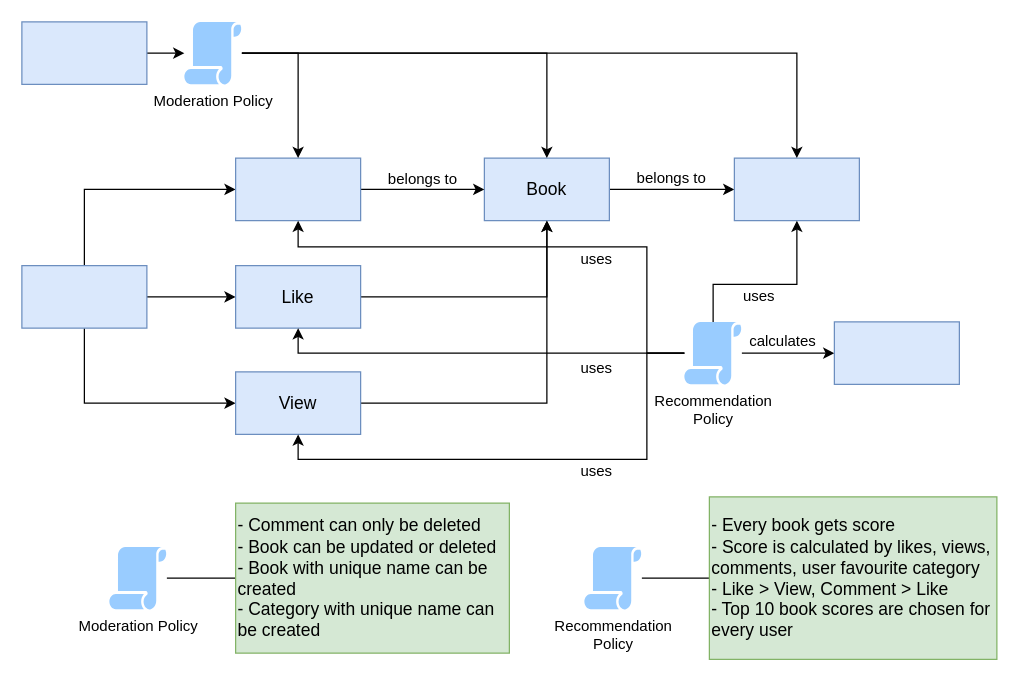
This 1019x681 diagram has some shape labels left out. The shapes that lost their labels are listed below. From the top down, each one's box as (x1, y1, x2, y2) in pixels, then its label:
(21, 21, 147, 84): Moderator
(234, 157, 361, 221): Comment
(733, 157, 859, 221): Category
(21, 264, 147, 328): User
(833, 321, 959, 384): Book Score
